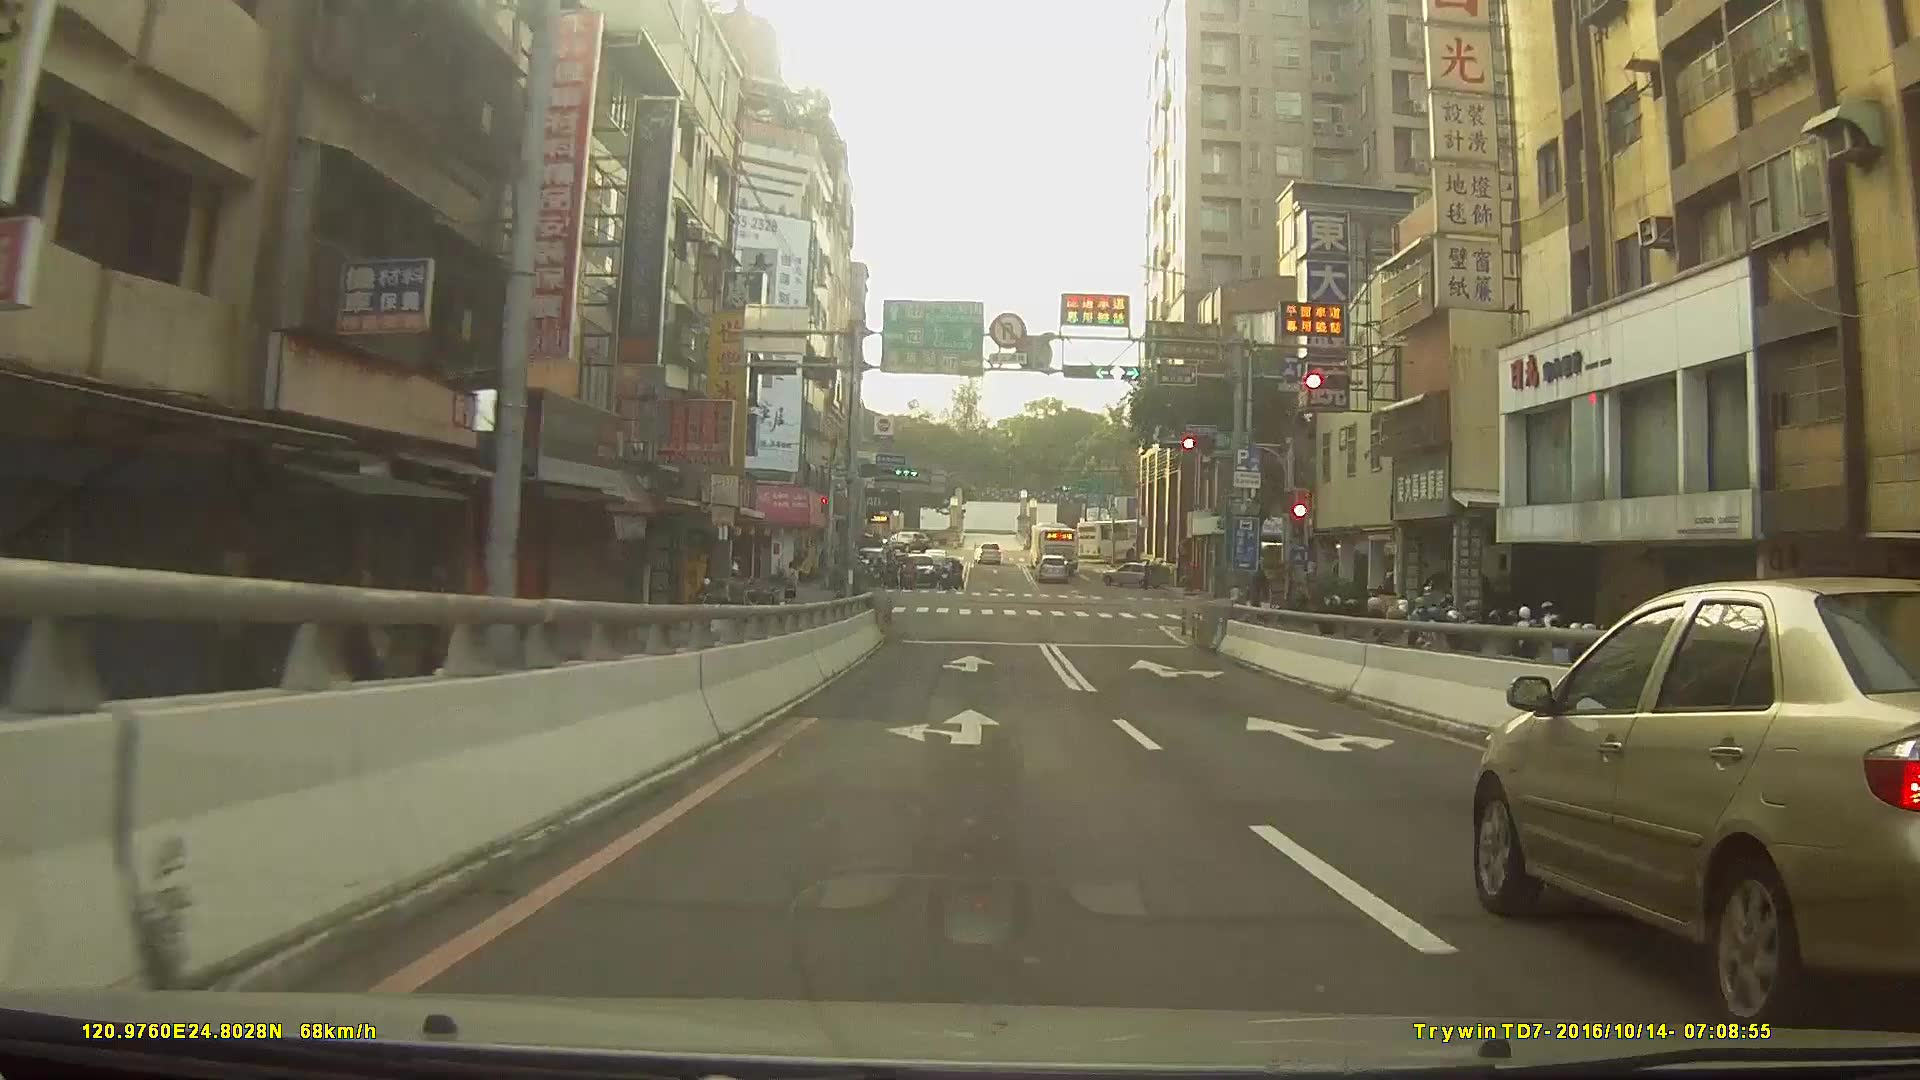rider: (687, 576, 732, 651)
vehicle: (1468, 576, 1920, 1025), (1076, 517, 1166, 564), (1030, 519, 1078, 567), (1099, 559, 1169, 588), (898, 553, 939, 588), (882, 528, 933, 551), (1034, 552, 1070, 580), (974, 540, 1002, 563)
